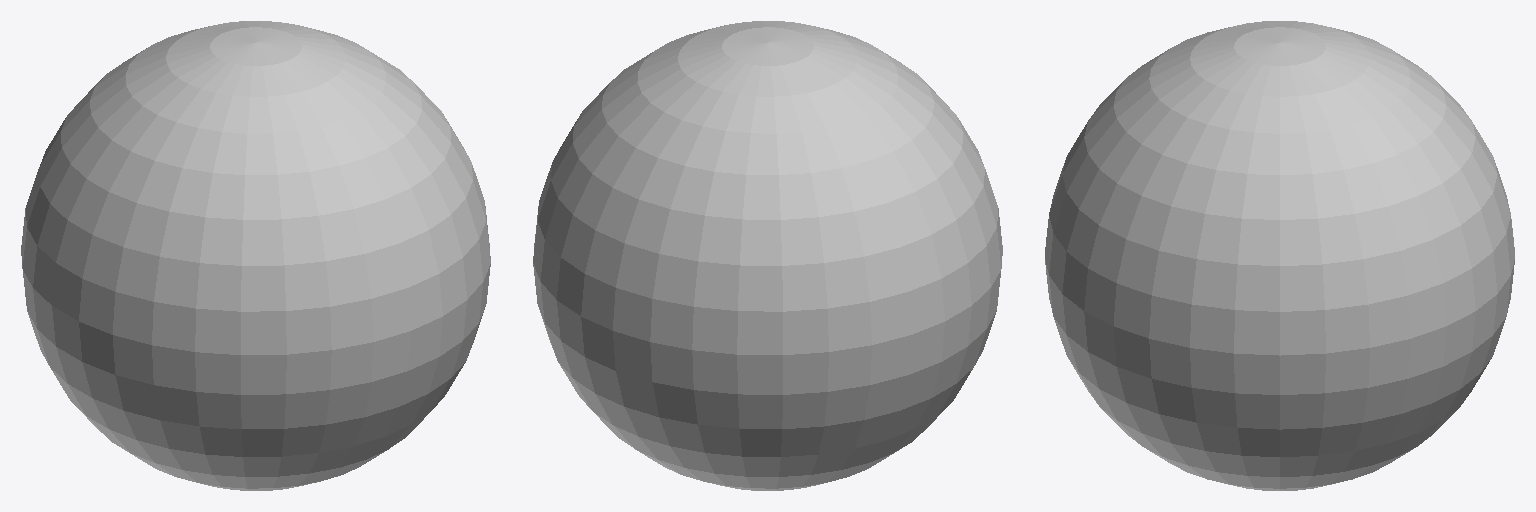
Rendered from collboll.obj.
3 views of the same model, side by side, from view 1: azimuth 30°, elevation 25°; view 2: azimuth 150°, elevation 25°; view 3: azimuth 270°, elevation 25° (orthographic).
Visible parts, largest first — view 1: 球.004; view 2: 球.004; view 3: 球.004.
Part boxes in pixels (bbox=[...]): 球.004: bbox=[21, 21, 490, 490]; 球.004: bbox=[533, 21, 1002, 490]; 球.004: bbox=[1045, 21, 1514, 490].
Size of the model in its own units: 1 by 1 by 1.